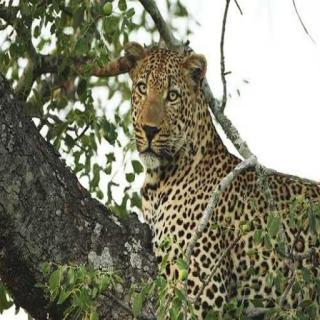Leopard: (105, 42, 320, 320)
